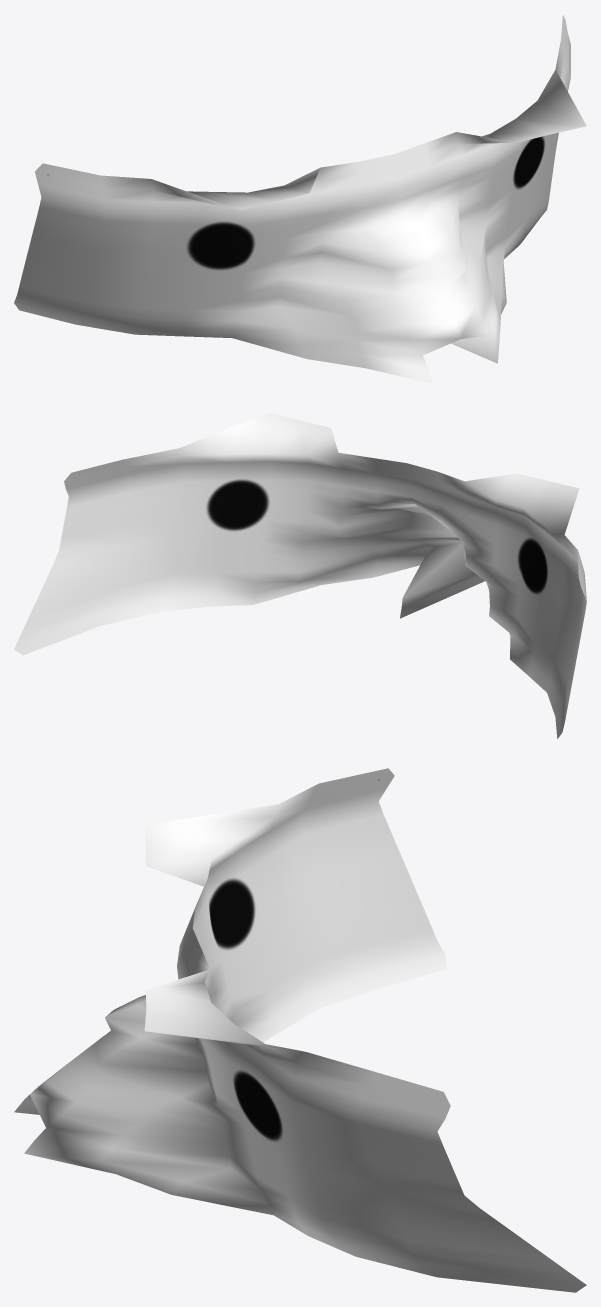
File: Ojos.fbx
3 renders of one model, top to bottom at view 1: azimuth 30°, elevation 25°; view 2: azimuth 150°, elevation 25°; view 3: azimuth 270°, elevation 25°, orthographic. The views are drawn at different scales.
Parts seen in each view (by area): view 1: Plane; view 2: Plane; view 3: Plane.
Boxes of the visible parts, x1,y1,x2,y2 form: Plane: (14, 15, 586, 383); Plane: (14, 412, 586, 738); Plane: (14, 768, 586, 1292).
Bounding box in the file's own units: 65.76 × 19.03 × 48.24.
Materials: 1 (1 with a texture image).
